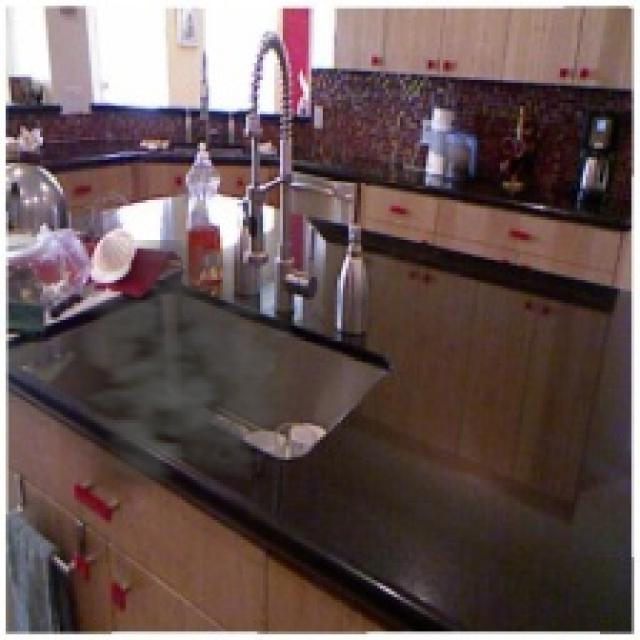smoke: (60, 240, 326, 503)
